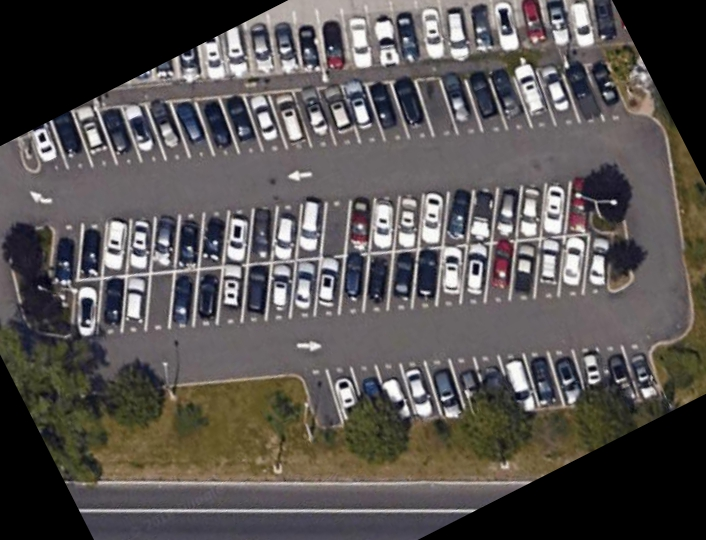parkingspot: (47, 169, 616, 344), (28, 56, 638, 175), (112, 0, 634, 90), (295, 340, 669, 431)
